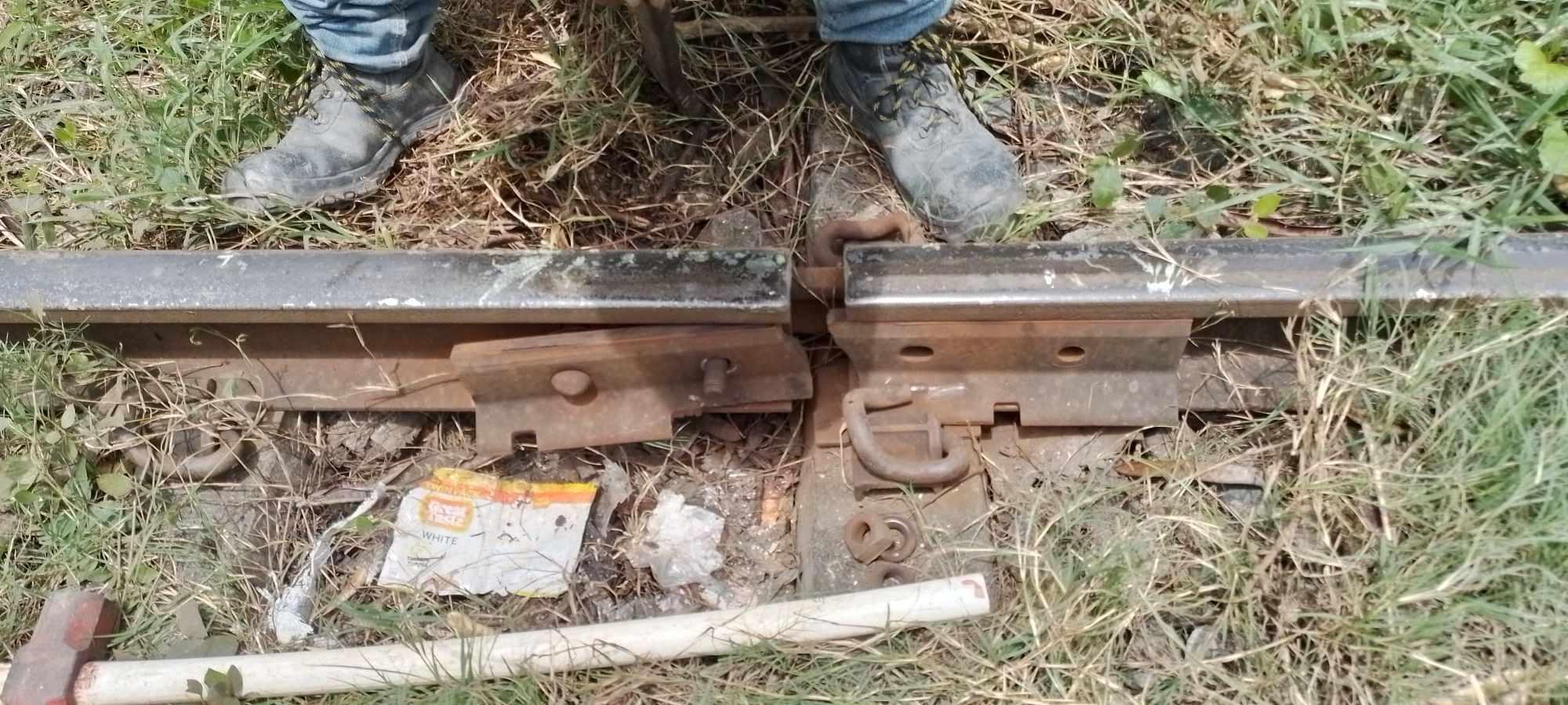railway-gap: (710, 204, 917, 379)
